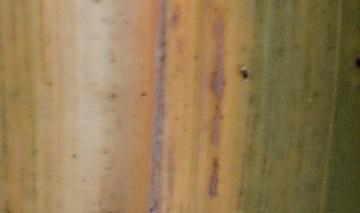tarspot: (239, 69, 249, 80), (353, 57, 360, 68), (139, 91, 149, 97), (71, 152, 77, 159)
